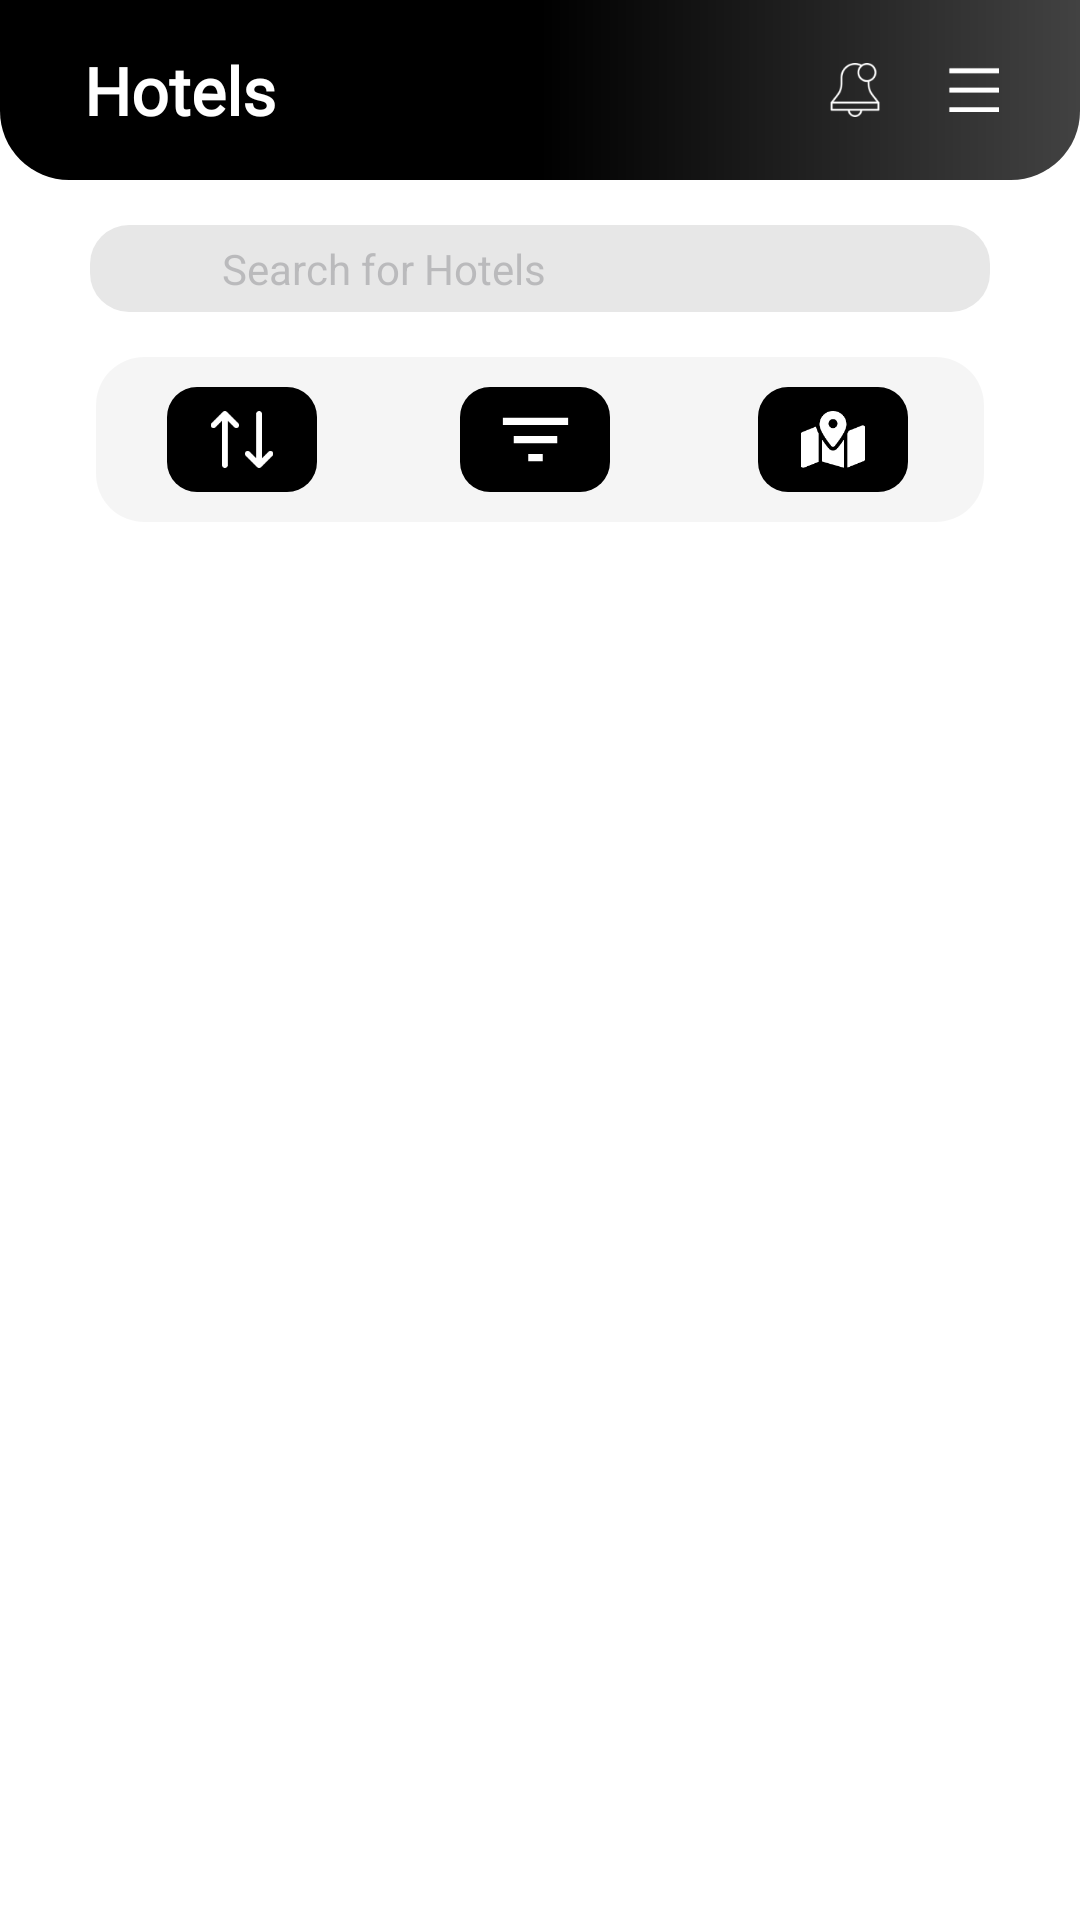

Icon click points for this 1080w x 1920h phone screenshot, format [x,y]:
bars: [974,90]
filter list: [535,439]
